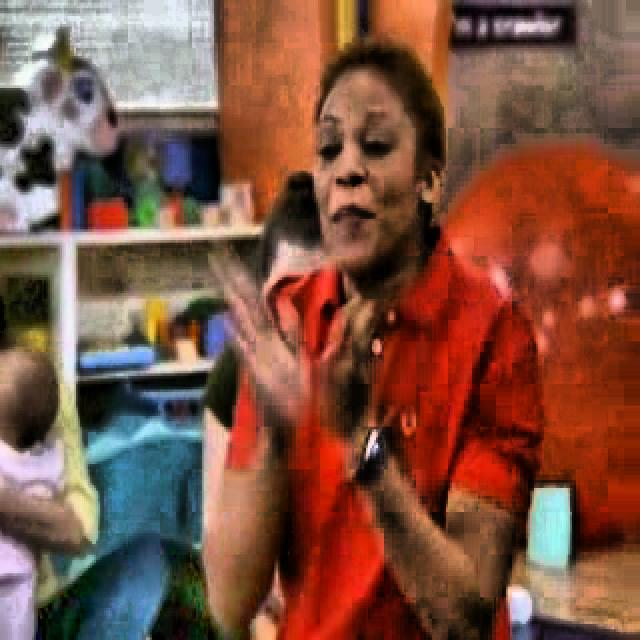F: (196, 49, 484, 640)
